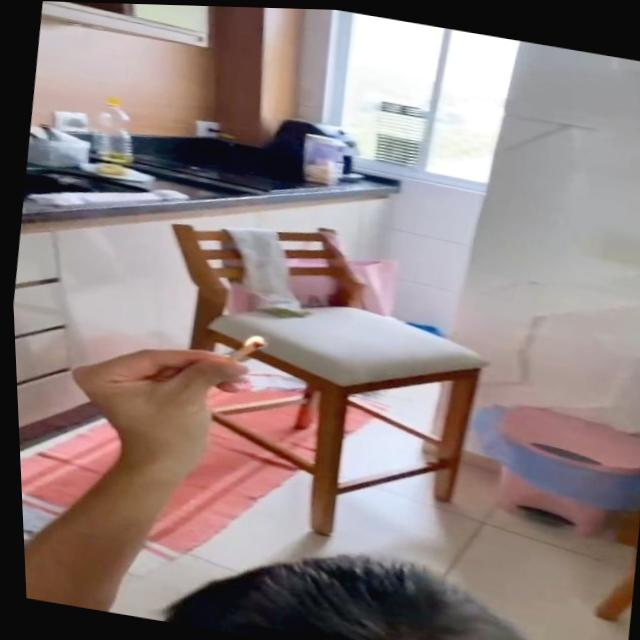helmet: (238, 325, 269, 355)
